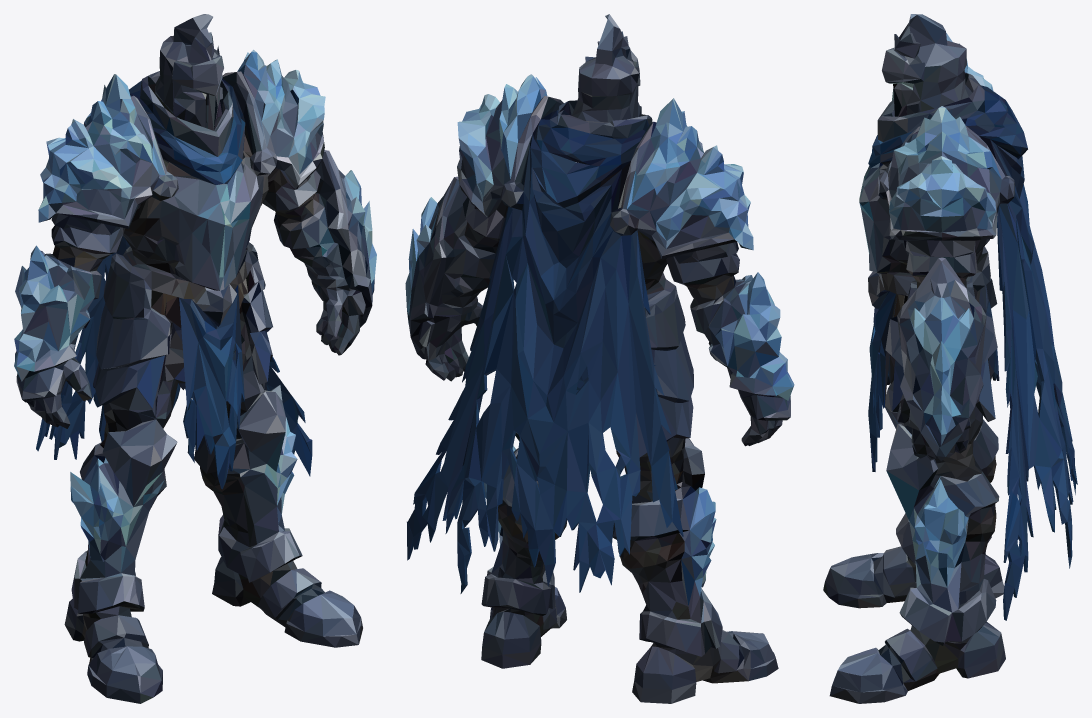
The model's file is frost-knight.glb.
The picture shows the model from 3 angles, left to right: view 1: azimuth 30°, elevation 25°; view 2: azimuth 150°, elevation 25°; view 3: azimuth 270°, elevation 25°; orthographic projection. The views are drawn at different scales.
Visible parts, largest first — view 1: tripo_node_e21e240e-d78c-40eb-9478-d94665704eba; view 2: tripo_node_e21e240e-d78c-40eb-9478-d94665704eba; view 3: tripo_node_e21e240e-d78c-40eb-9478-d94665704eba.
Boxes of the visible parts, x1,y1,x2,y2 form: tripo_node_e21e240e-d78c-40eb-9478-d94665704eba: (14,14,376,703); tripo_node_e21e240e-d78c-40eb-9478-d94665704eba: (405,14,794,703); tripo_node_e21e240e-d78c-40eb-9478-d94665704eba: (823,14,1077,703).
Size of the model in its own units: 1.35 by 2.2 by 0.8049.
